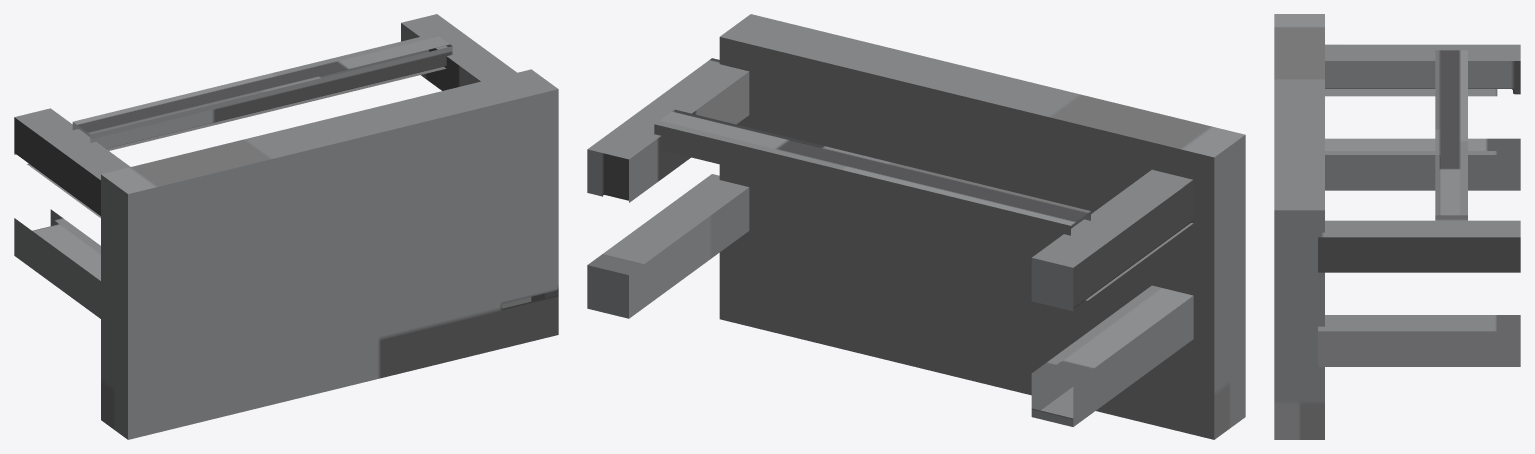
3 renders of one model, left to right at view 1: azimuth 30°, elevation 25°; view 2: azimuth 150°, elevation 25°; view 3: azimuth 270°, elevation 25°, orthographic. The views are drawn at different scales.
Size of the model in its own units: 0.4653 by 0.2479 by 0.2409.
